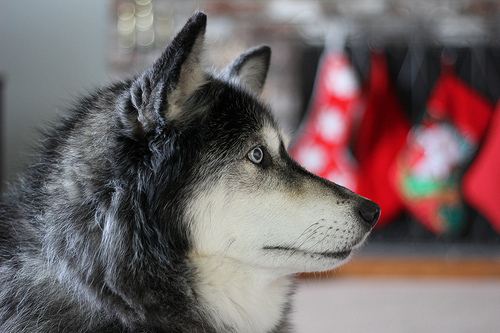dog: (7, 9, 386, 332)
